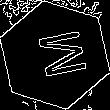M_W: (25, 27, 85, 83)
